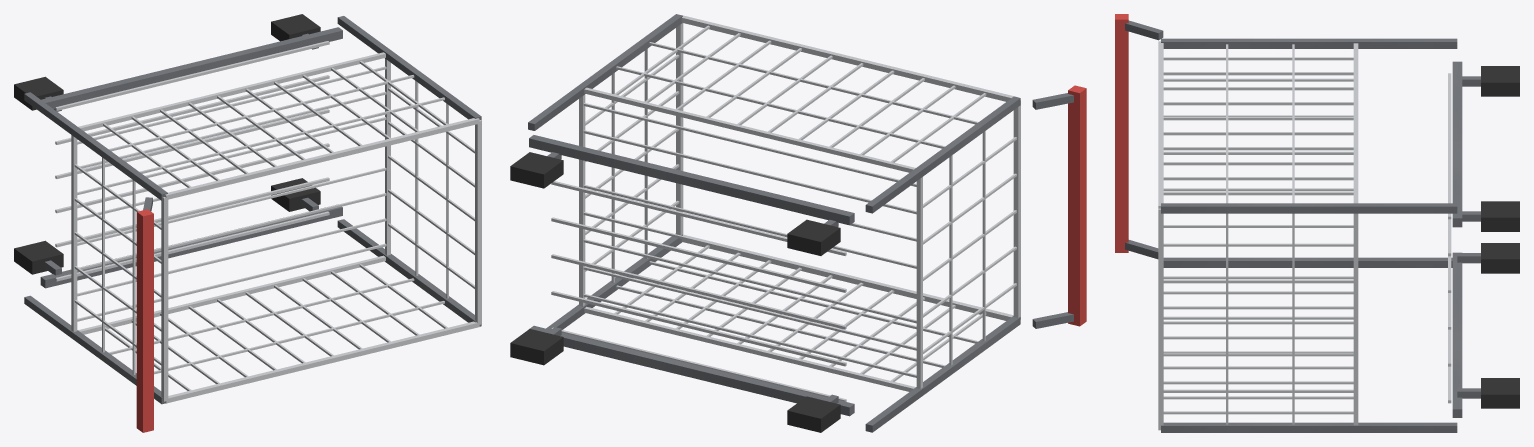
File: cart.gltf
3 renders of one model, left to right at view 1: azimuth 30°, elevation 25°; view 2: azimuth 150°, elevation 25°; view 3: azimuth 270°, elevation 25°, orthographic. The views are drawn at different scales.
Visible parts, largest first — view 1: cart; view 2: cart; view 3: cart.
Boxes of the visible parts, x1,y1,x2,y2 form: cart: [14, 14, 481, 432]; cart: [510, 14, 1086, 432]; cart: [1115, 14, 1519, 432].
Bounding box in the file's own units: 1.15 × 0.66 × 1.04.
4 materials, 1 textured.
